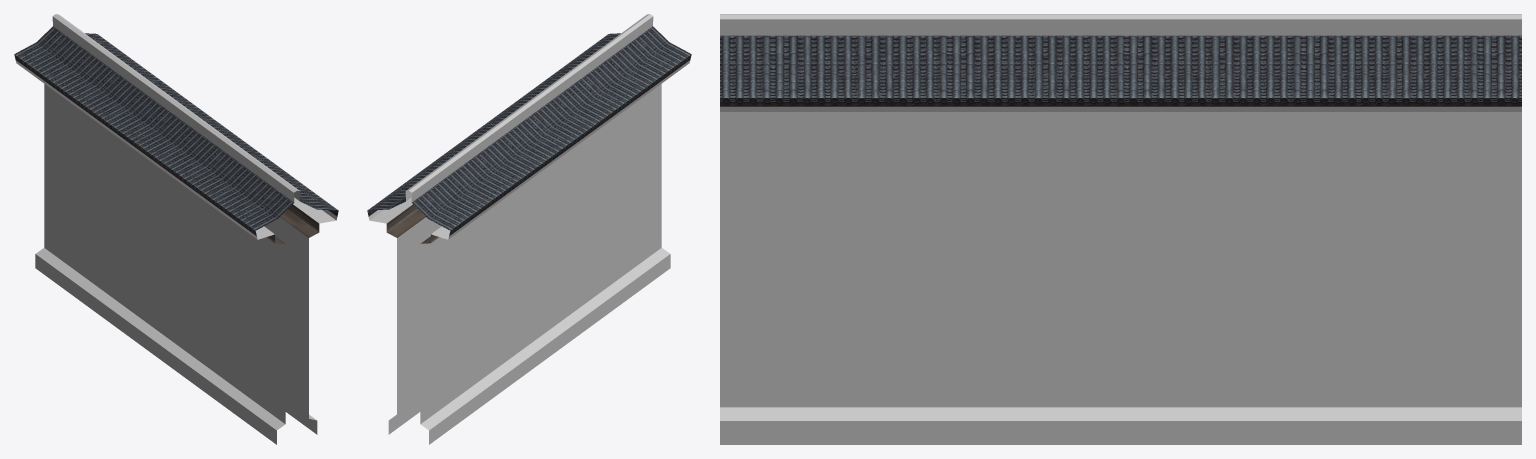
The model's file is JiaYeSi_WeiQiang_4.FBX.
The picture shows the model from 3 angles, left to right: view 1: azimuth 30°, elevation 25°; view 2: azimuth 150°, elevation 25°; view 3: azimuth 270°, elevation 25°; orthographic projection. The views are drawn at different scales.
Parts seen in each view (by area): view 1: JiaYeSi_WeiQiang_4a, JiaYeSi_WeiQiang_4b; view 2: JiaYeSi_WeiQiang_4a, JiaYeSi_WeiQiang_4b; view 3: JiaYeSi_WeiQiang_4a, JiaYeSi_WeiQiang_4b.
Part boxes in pixels (left/top/right/bottom): JiaYeSi_WeiQiang_4a: left=15, top=14, right=337, bottom=444; JiaYeSi_WeiQiang_4b: left=14, top=26, right=338, bottom=243; JiaYeSi_WeiQiang_4a: left=368, top=14, right=690, bottom=444; JiaYeSi_WeiQiang_4b: left=367, top=26, right=691, bottom=243; JiaYeSi_WeiQiang_4a: left=720, top=14, right=1521, bottom=444; JiaYeSi_WeiQiang_4b: left=720, top=35, right=1521, bottom=106.
Size of the model in its own units: 311 by 892 by 1564.
